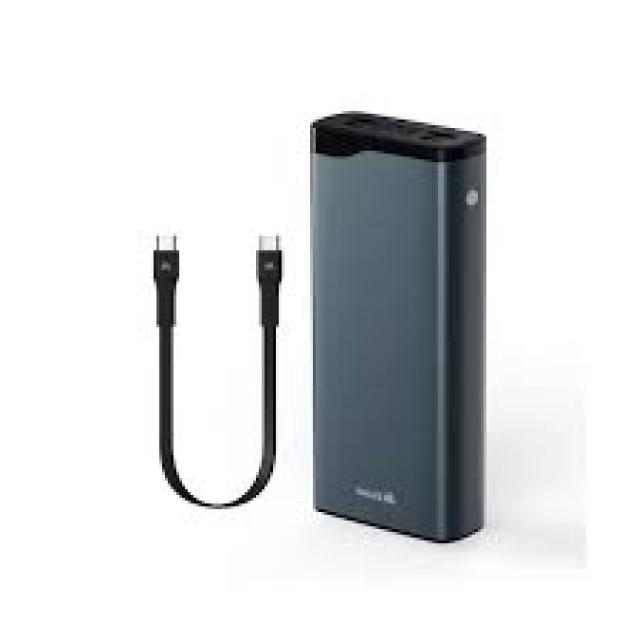power_bank: (302, 109, 488, 546)
